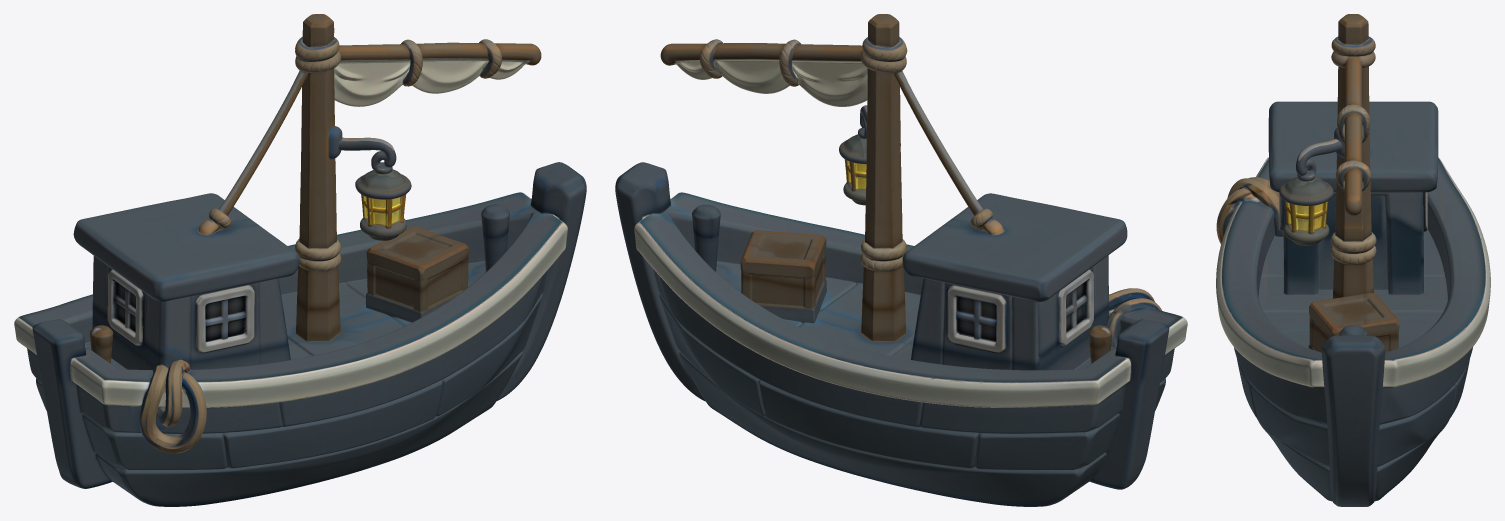
Rendered from tekne.glb.
3 views of the same model, side by side, from view 1: azimuth 30°, elevation 25°; view 2: azimuth 150°, elevation 25°; view 3: azimuth 270°, elevation 25° (orthographic). The views are drawn at different scales.
Visible parts, largest first — view 1: tripo_node_e726192c-a5ac-4e76-8def-e20b8e66efaa; view 2: tripo_node_e726192c-a5ac-4e76-8def-e20b8e66efaa; view 3: tripo_node_e726192c-a5ac-4e76-8def-e20b8e66efaa.
Boxes of the visible parts, x1,y1,x2,y2 form: tripo_node_e726192c-a5ac-4e76-8def-e20b8e66efaa: (14, 14, 586, 506); tripo_node_e726192c-a5ac-4e76-8def-e20b8e66efaa: (615, 14, 1187, 506); tripo_node_e726192c-a5ac-4e76-8def-e20b8e66efaa: (1216, 14, 1490, 506).
Size of the model in its own units: 0.9798 by 0.7445 by 0.4497.
1 material, 1 textured.
